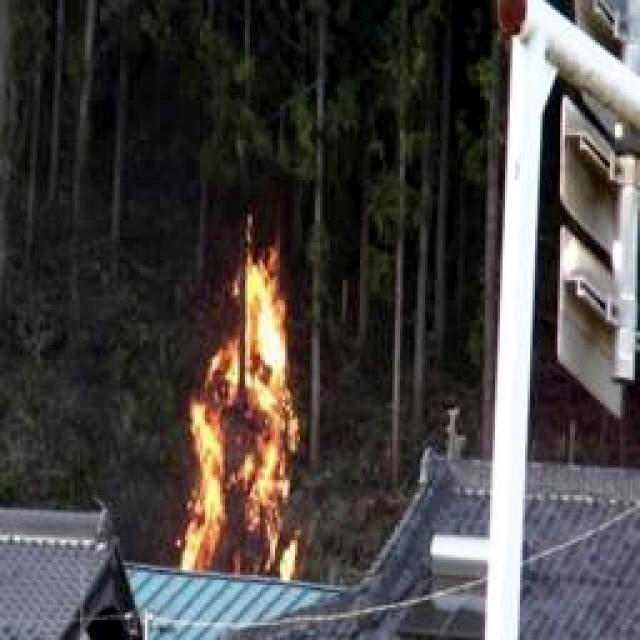fire: (182, 250, 318, 580)
